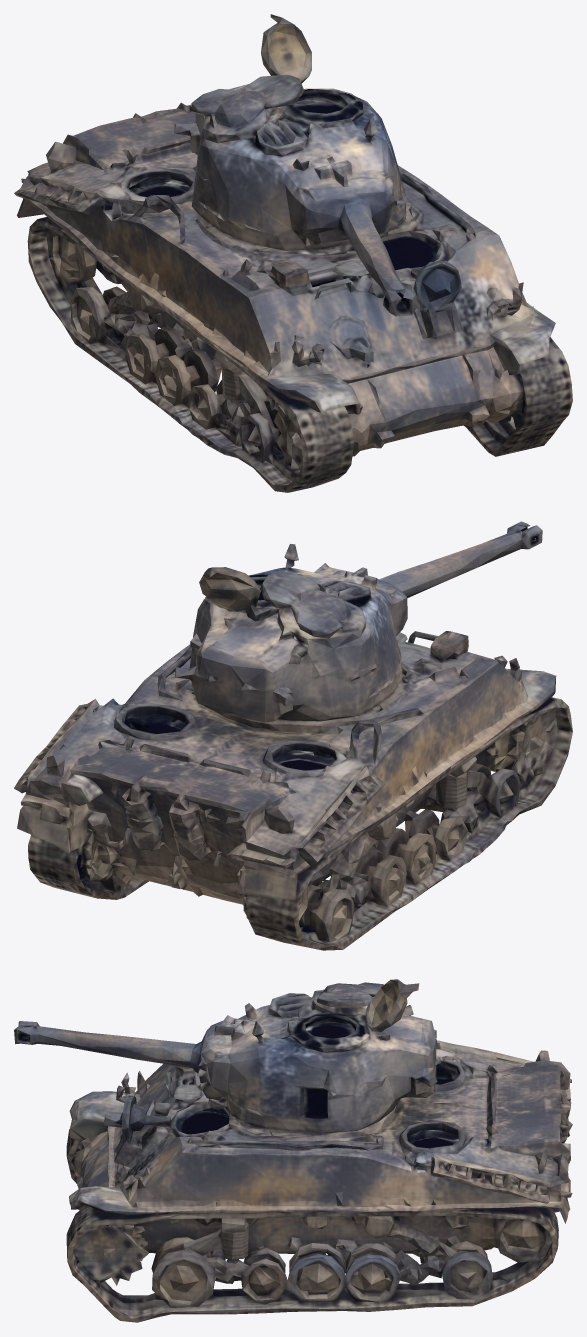
Rendered from wreck.obj.
3 renders of one model, top to bottom at view 1: azimuth 30°, elevation 25°; view 2: azimuth 150°, elevation 25°; view 3: azimuth 270°, elevation 25°, orthographic. The views are drawn at different scales.
Parts seen in each view (by area): view 1: wreck; view 2: wreck; view 3: wreck.
Boxes of the visible parts, x1,y1,x2,y2 form: wreck: (14,14,572,492); wreck: (14,521,572,950); wreck: (14,979,572,1322).
Bounding box in the file's own units: 3.36 × 3.5 × 6.
1 material, 1 textured.
